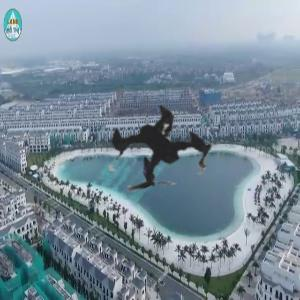drone: (22, 15, 300, 294)
